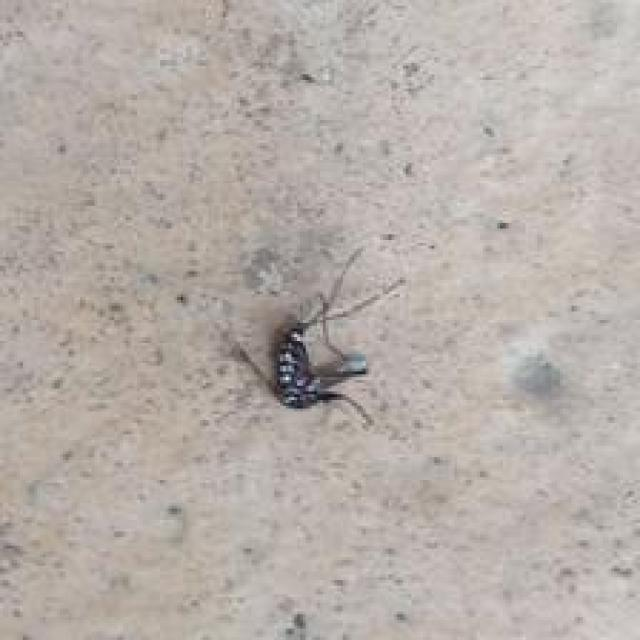Aedes albopictus: (228, 244, 406, 430)
